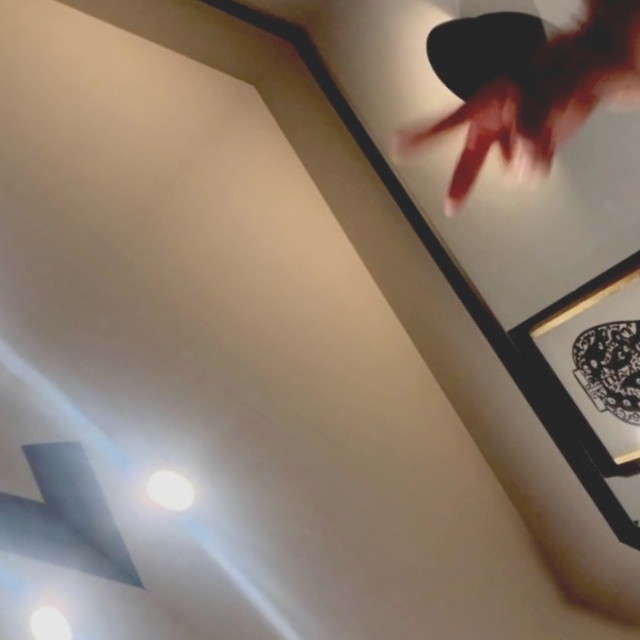Scissors: (367, 0, 627, 258)
